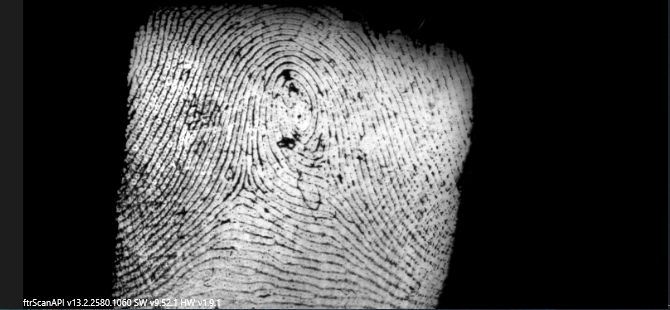nucelo: (282, 86, 311, 130)
verticilo: (233, 168, 262, 196), (314, 146, 335, 172)
